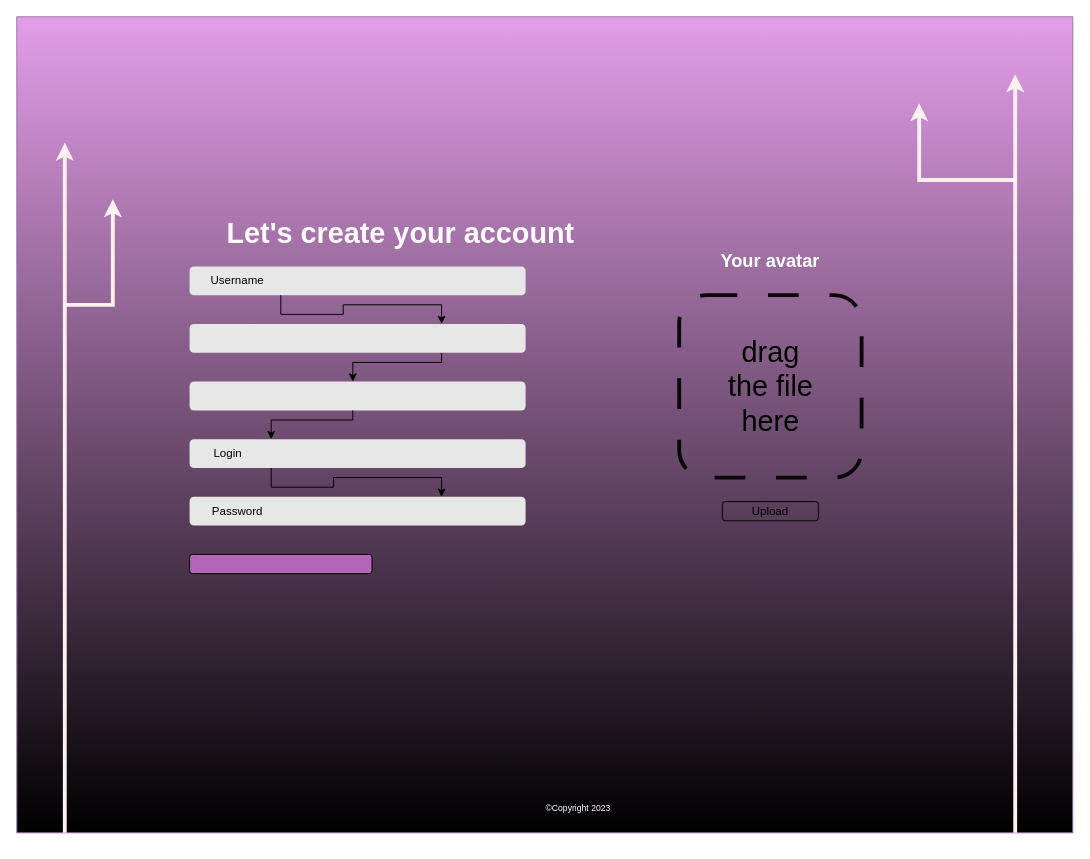
Image size: 1090x859. Some labels were removed from this diagram. The centre of each missing label's shape, as x and y in pixels:
E-mail: the point at 357,338
Finish registration: the point at 280,563
Phone number (+7): the point at 357,395
